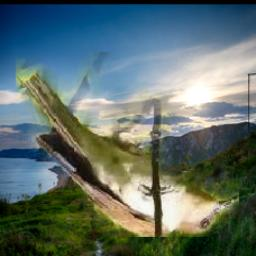Cuckoo: (15, 52, 238, 237)
